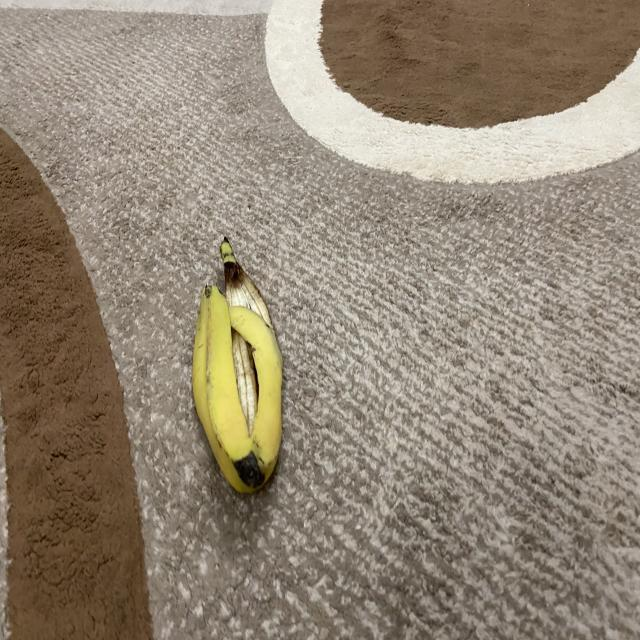banana-peel: (190, 236, 284, 495)
